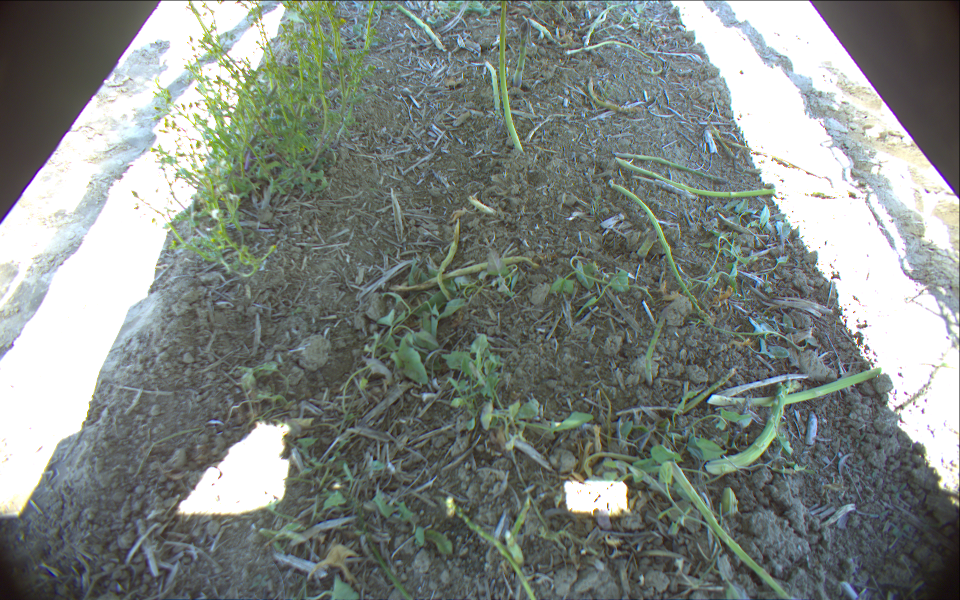aspa: (491, 1, 532, 158), (509, 19, 533, 89)
